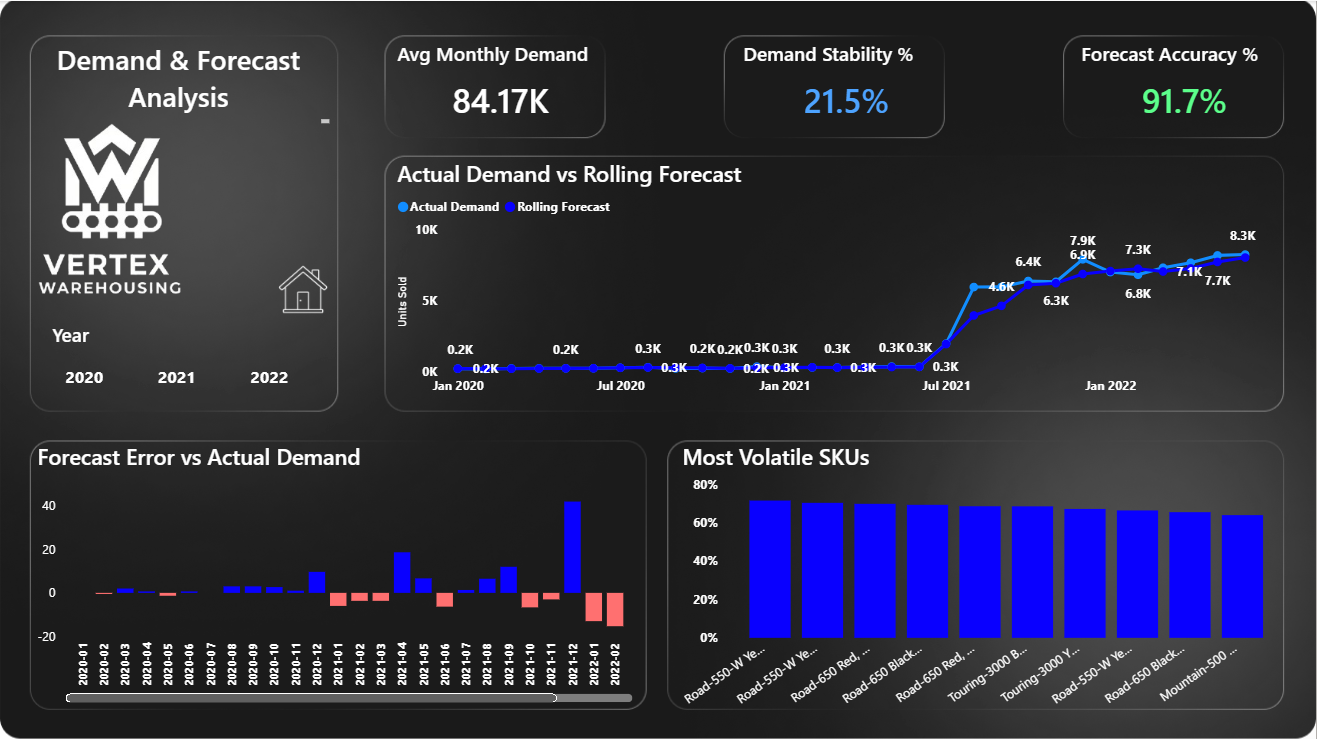

The page's visual inventory and layout, read from the dashboard file:
{"tool":"powerbi","page":{"name":"Demand & Forecasting","canvas":[1280,720],"ordinal":1},"visuals":[{"type":"card","title":"Avg Monthly Demand","fields":{"Values":["vw_warehouse_operations_monthly.Avg Monthly Demand"]},"box":[381.3,37.9,211.1,92.4],"z":0},{"type":"card","title":"Demand Stability %","fields":{"Values":["vw_warehouse_operations_monthly.Demand Stability %"]},"box":[717.8,37.9,211.1,92.4],"z":1000},{"type":"card","title":"Forecast Accuracy %","fields":{"Values":["vw_warehouse_operations_monthly.Forecast Accuracy %"]},"box":[1046.6,37.9,211.1,92.4],"z":2000},{"type":"lineChart","title":"Actual Demand vs Rolling Forecast","fields":{"Y":["Sum(vw_warehouse_operations_monthly.total_units_sold)","Sum(vw_warehouse_operations_monthly.avg_3_month_demand)"],"Category":["vw_warehouse_operations_monthly.sales_month"]},"box":[381.3,152.7,859.8,239.3],"z":3000},{"type":"columnChart","title":"Most Volatile SKUs","fields":{"Category":["vw_warehouse_operations_monthly.product_name"],"Y":["vw_warehouse_operations_monthly.Demand Volatility %"]},"box":[658.5,428,596.2,268.4],"z":4000},{"type":"columnChart","title":"Forecast Error vs Actual Demand","fields":{"Y":["vw_warehouse_operations_monthly.Forecast Error"],"Category":["vw_warehouse_operations_monthly.YearMonth"]},"box":[31,428,589,259],"z":5000},{"type":"advancedSlicerVisual","fields":{"Values":["vw_warehouse_operations_monthly.sales_month.Variation.Date Hierarchy.Year"]},"box":[46,311,273,81],"z":6000},{"type":"actionButton","box":[237.3,228.6,114.8,107],"z":7000},{"type":"image","box":[0,115.7,211.1,177],"z":8000},{"type":"textbox","title":"Demand & Forecast Analysis","box":[21.4,37.9,304.4,85.6],"z":8001}]}

Visuals, with their boxes in screenshot pixels (x1, y1, x2, y2), scaled from the page's 1280x720 canvas onto the 1317x739 screenshot:
"Avg Monthly Demand" card: detection(392, 39, 610, 134)
"Demand Stability %" card: detection(739, 39, 956, 134)
"Forecast Accuracy %" card: detection(1077, 39, 1294, 134)
"Actual Demand vs Rolling Forecast" lineChart: detection(392, 157, 1277, 402)
"Most Volatile SKUs" columnChart: detection(678, 439, 1291, 715)
"Forecast Error vs Actual Demand" columnChart: detection(32, 439, 638, 705)
advancedSlicerVisual - vw_warehouse_operations_monthly.sales_month.Variation.Date Hierarchy.Year: detection(47, 319, 328, 402)
actionButton: detection(244, 235, 362, 344)
image: detection(0, 119, 217, 300)
"Demand & Forecast Analysis" textbox: detection(22, 39, 335, 127)
